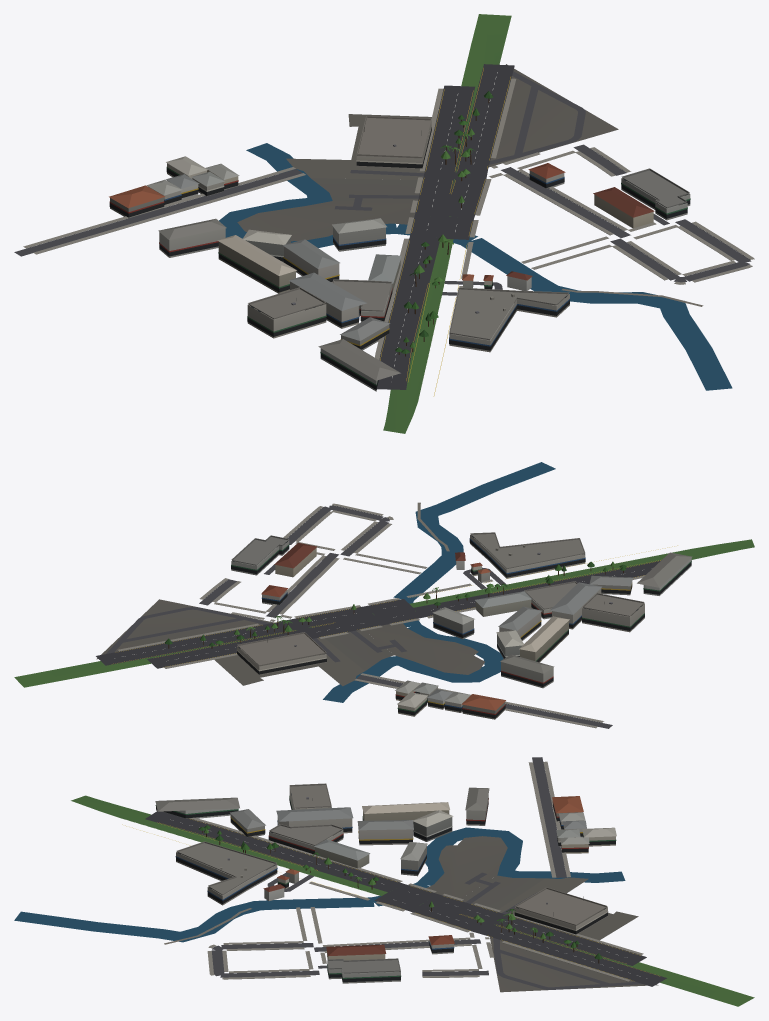
3 renders of one model, top to bottom at view 1: azimuth 30°, elevation 25°; view 2: azimuth 150°, elevation 25°; view 3: azimuth 270°, elevation 25°, orthographic. The views are drawn at different scales.
Visible parts, largest first — view 1: Buildings__r-14c-4-col, Landuse__r-14c-4, Roads_Major__r-14c-4, Water__r-14c-4, Roads_Minor__r-14c-4, Sidewalks__r-14c-4-col, Windows__r-14c-4, St. Peter Chapels - Imus-col, Excel First Review Center-col, DepEd SDO Cebu City-col, Props_Foliage__r-14c-4, Markings__r-14c-4 (+1 smaller); view 2: Buildings__r-14c-4-col, Landuse__r-14c-4, Roads_Major__r-14c-4, Water__r-14c-4, Roads_Minor__r-14c-4, Sidewalks__r-14c-4-col, Windows__r-14c-4, St. Peter Chapels - Imus-col, Excel First Review Center-col, DepEd SDO Cebu City-col, Props_Foliage__r-14c-4, Markings__r-14c-4; view 3: Buildings__r-14c-4-col, Landuse__r-14c-4, Roads_Major__r-14c-4, Water__r-14c-4, Sidewalks__r-14c-4-col, Roads_Minor__r-14c-4, St. Peter Chapels - Imus-col, Windows__r-14c-4, DepEd SDO Cebu City-col, Excel First Review Center-col, Props_Foliage__r-14c-4, Markings__r-14c-4 (+1 smaller).
Boxes of the visible parts, x1,y1,x2,y2 form: Buildings__r-14c-4-col: (109,156,690,352); Landuse__r-14c-4: (237,14,618,433); Roads_Major__r-14c-4: (377,64,514,389); Water__r-14c-4: (219,143,732,390); Roads_Minor__r-14c-4: (14,71,751,295); Sidewalks__r-14c-4-col: (23,78,754,360); Windows__r-14c-4: (109,167,690,350); St. Peter Chapels - Imus-col: (356,116,431,168); Excel First Review Center-col: (318,339,400,391); DepEd SDO Cebu City-col: (332,279,392,321); Props_Foliage__r-14c-4: (395,91,493,353); Markings__r-14c-4: (380,68,510,397); Buildings__r-14c-4-col: (231,532,644,719); Landuse__r-14c-4: (14,539,754,687); Roads_Major__r-14c-4: (96,560,660,668); Water__r-14c-4: (323,462,555,702); Roads_Minor__r-14c-4: (106,505,612,728); Sidewalks__r-14c-4-col: (118,503,644,728); Windows__r-14c-4: (231,535,644,718); St. Peter Chapels - Imus-col: (236,632,326,674); Excel First Review Center-col: (637,552,692,595); DepEd SDO Cebu City-col: (524,581,577,619); Props_Foliage__r-14c-4: (164,561,626,646); Markings__r-14c-4: (113,545,685,667); Buildings__r-14c-4-col: (176,783,616,983); Landuse__r-14c-4: (71,795,754,1006); Roads_Major__r-14c-4: (145,811,666,986); Water__r-14c-4: (14,827,625,942); Sidewalks__r-14c-4-col: (189,761,643,981); Roads_Minor__r-14c-4: (211,757,642,989); St. Peter Chapels - Imus-col: (514,887,608,934); Windows__r-14c-4: (175,793,616,982); DepEd SDO Cebu City-col: (268,824,343,853); Excel First Review Center-col: (155,797,239,818); Props_Foliage__r-14c-4: (198,825,602,959); Markings__r-14c-4: (122,819,659,980).
Bounding box in the file's own units: 366 × 13 × 460.
